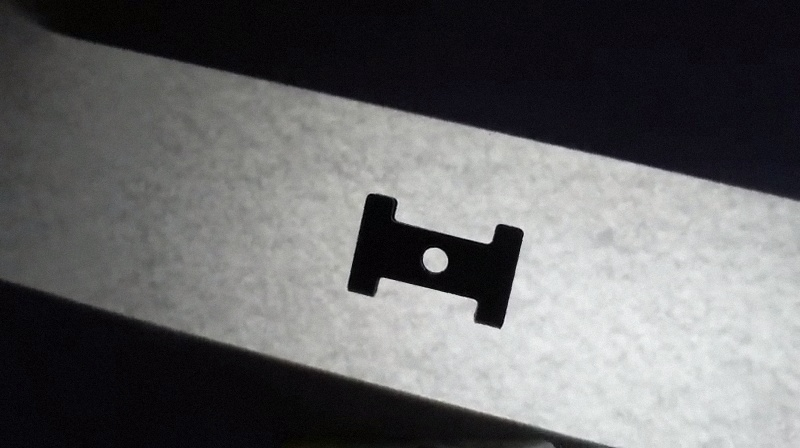O002: (342, 190, 526, 335)
